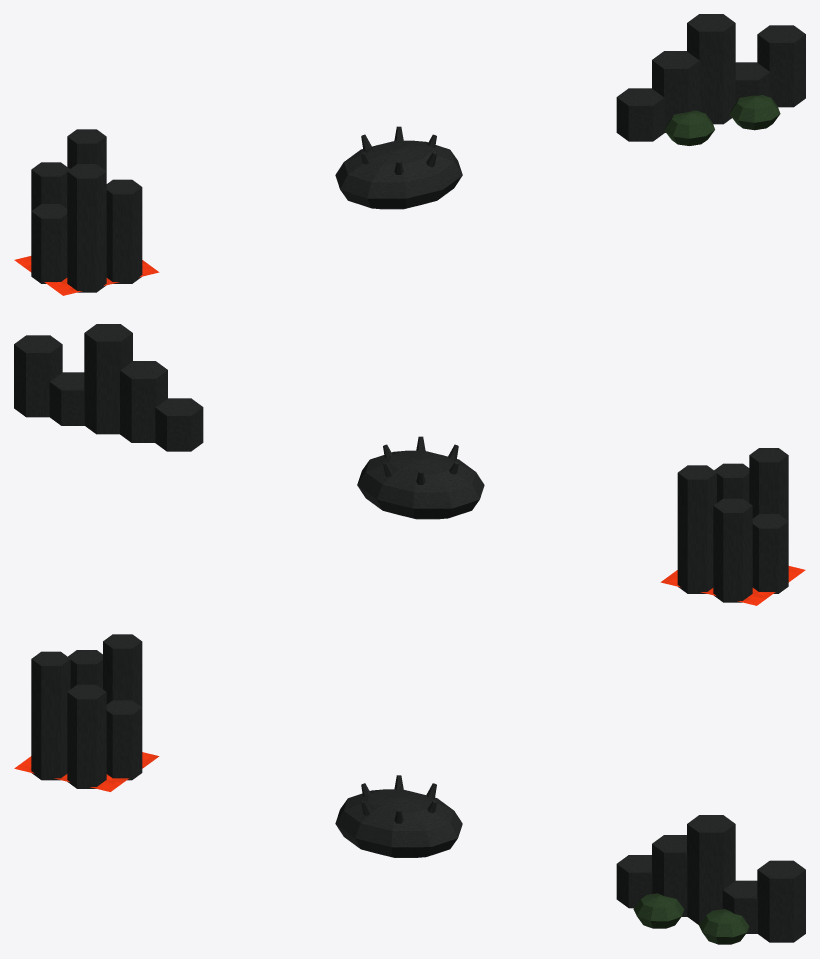
Rendered from KIT_ashenmoor_volcanic.gltf.
The picture shows the model from 3 angles, top to bottom: view 1: azimuth 30°, elevation 25°; view 2: azimuth 150°, elevation 25°; view 3: azimuth 330°, elevation 25°; orthographic projection.
Visible parts, largest first — view 1: 03_cliff, 01_basalt, 02_vent; view 2: 01_basalt, 03_cliff, 02_vent; view 3: 03_cliff, 01_basalt, 02_vent.
Part boxes in pixels (bbox=[...]): 03_cliff: bbox=[616, 14, 805, 145]; 01_basalt: bbox=[14, 129, 159, 295]; 02_vent: bbox=[335, 126, 462, 209]; 01_basalt: bbox=[660, 448, 805, 605]; 03_cliff: bbox=[14, 324, 203, 451]; 02_vent: bbox=[357, 436, 484, 519]; 03_cliff: bbox=[616, 815, 805, 944]; 01_basalt: bbox=[14, 634, 159, 791]; 02_vent: bbox=[335, 775, 462, 857].
Size of the model in its own units: 13.45 by 2.08 by 1.69.
3 materials, 3 textured.
